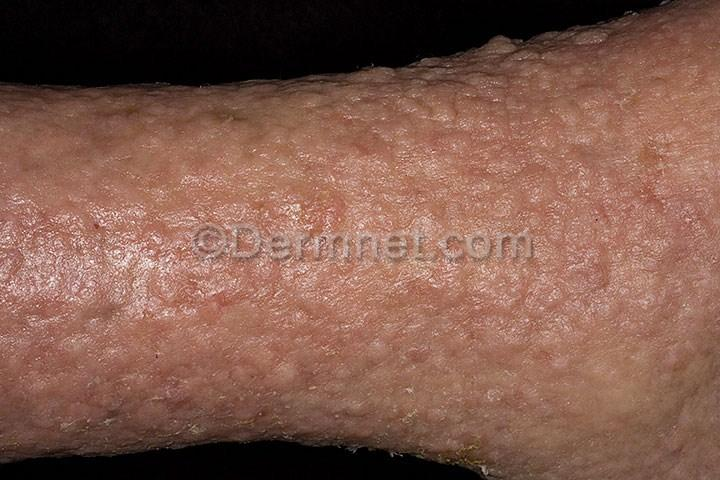Eczema: (426, 132, 541, 280), (365, 283, 468, 446), (77, 313, 186, 449), (121, 176, 228, 314), (2, 181, 113, 310), (563, 340, 660, 480), (468, 324, 555, 473), (274, 301, 365, 442), (5, 84, 145, 175), (185, 317, 286, 440), (336, 159, 424, 295), (227, 189, 322, 311), (0, 315, 81, 451), (156, 83, 266, 179), (450, 39, 558, 132), (624, 204, 699, 332), (659, 322, 720, 477), (472, 278, 619, 338), (557, 16, 653, 107), (550, 121, 623, 234), (358, 72, 457, 153), (656, 0, 720, 121), (267, 72, 352, 163), (634, 116, 720, 201), (265, 149, 334, 199)
